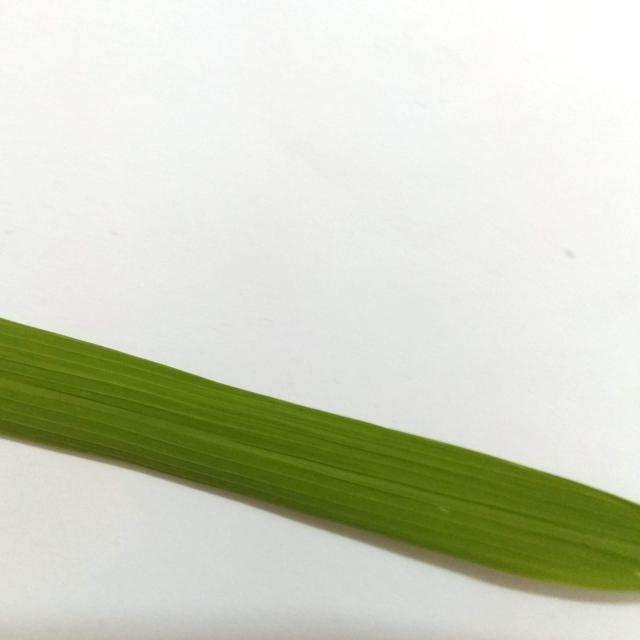healthy: (0, 299, 640, 607)
